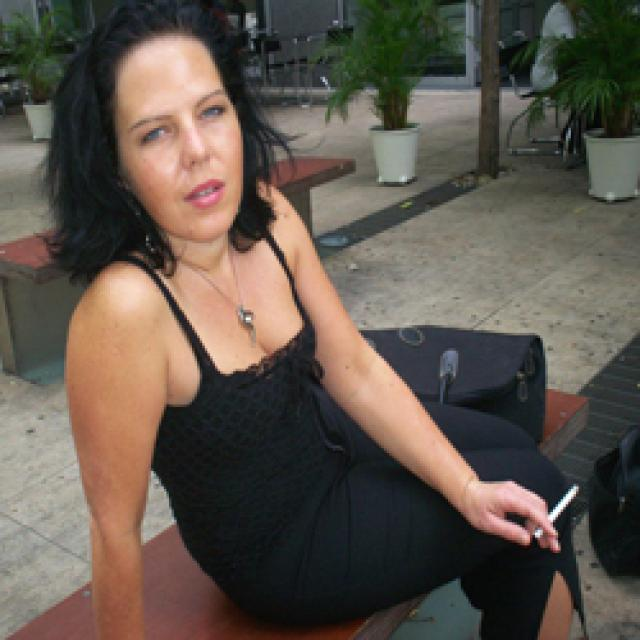Smooking: (528, 467, 585, 562)
